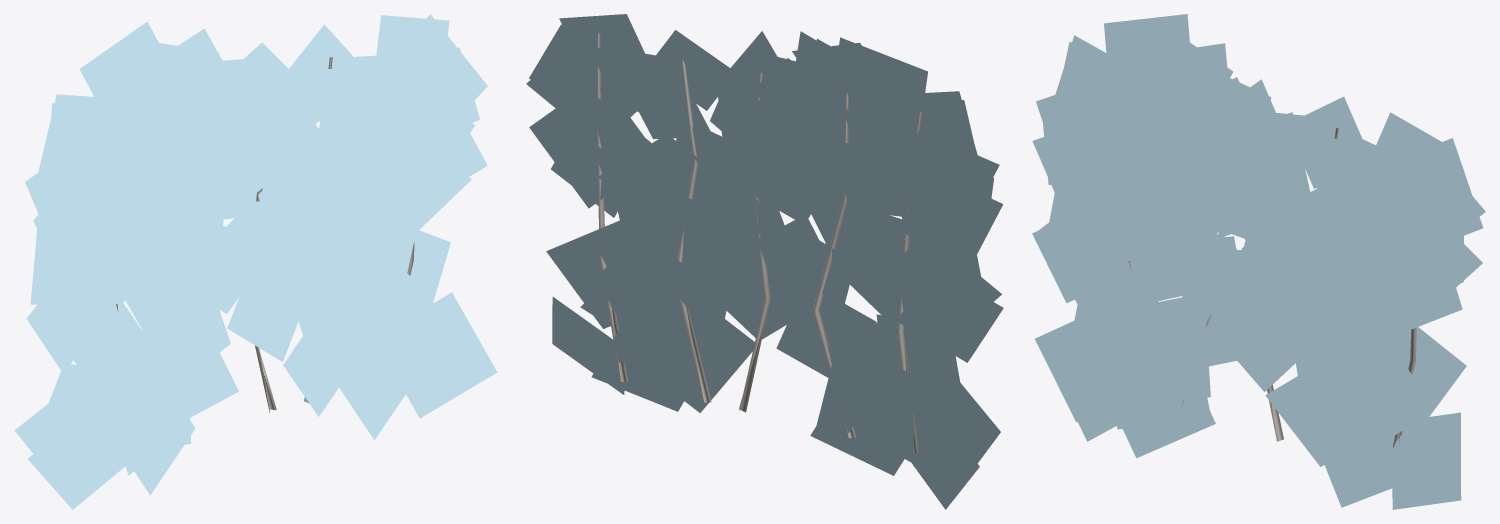
Rendered from ivy_wall.gltf.
The picture shows the model from 3 angles, left to right: view 1: azimuth 30°, elevation 25°; view 2: azimuth 150°, elevation 25°; view 3: azimuth 330°, elevation 25°; orthographic projection. The views are drawn at different scales.
Parts seen in each view (by area): view 1: ivy_wall_Leaf_Ivy, ivy_wall_Bark_Dark; view 2: ivy_wall_Leaf_Ivy, ivy_wall_Bark_Dark; view 3: ivy_wall_Leaf_Ivy, ivy_wall_Bark_Dark.
Boxes of the visible parts, x1,y1,x2,y2 form: ivy_wall_Leaf_Ivy: [14, 14, 497, 509]; ivy_wall_Bark_Dark: [116, 57, 414, 412]; ivy_wall_Leaf_Ivy: [526, 14, 1003, 509]; ivy_wall_Bark_Dark: [597, 33, 922, 453]; ivy_wall_Leaf_Ivy: [1032, 14, 1485, 509]; ivy_wall_Bark_Dark: [1128, 127, 1416, 447].
Size of the model in its own units: 3.33 by 3.08 by 0.4138.
